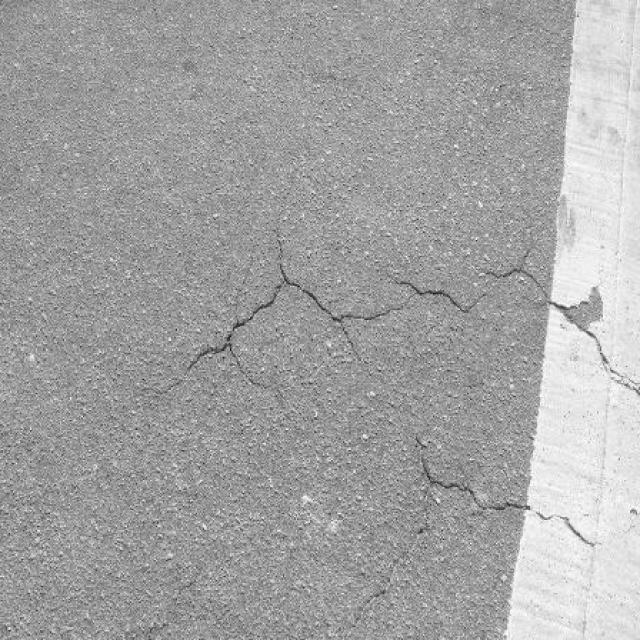Crack: (158, 238, 485, 396), (344, 444, 595, 639), (482, 255, 638, 393)
